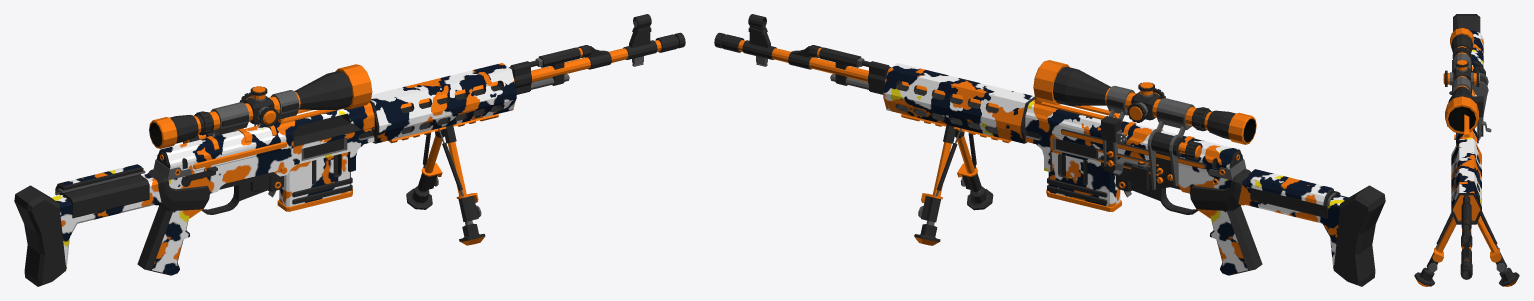
Rendered from SM_Sniper.fbx.
3 views of the same model, side by side, from view 1: azimuth 30°, elevation 25°; view 2: azimuth 150°, elevation 25°; view 3: azimuth 270°, elevation 25° (orthographic). The views are drawn at different scales.
Parts seen in each view (by area): view 1: SM_M; view 2: SM_M; view 3: SM_M.
Boxes of the visible parts, left/top/right/bottom form: SM_M: left=14, top=14, right=685, bottom=286; SM_M: left=714, top=14, right=1385, bottom=286; SM_M: left=1414, top=14, right=1519, bottom=286.
Bounding box in the file's own units: 106 × 28.45 × 18.24.
Materials: 3 (3 with a texture image).
